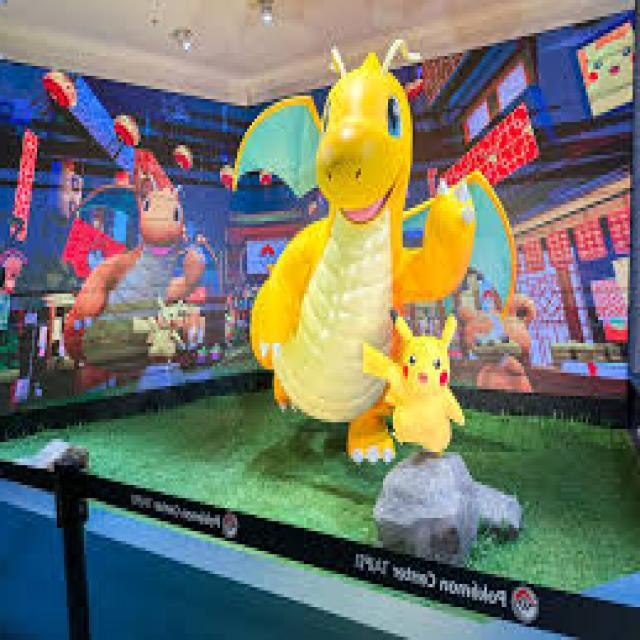Dragonite: (269, 58, 441, 414), (67, 176, 187, 372)
Pikachu: (384, 321, 456, 449)
